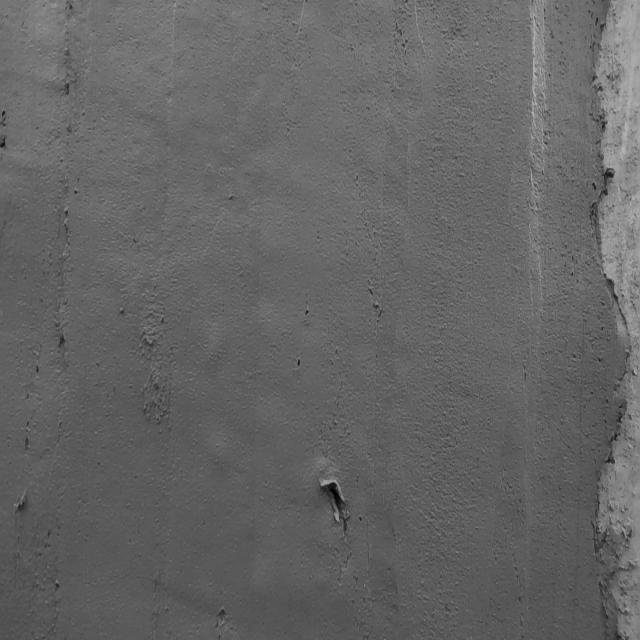trowels marks: (53, 5, 76, 443), (47, 510, 65, 638)
